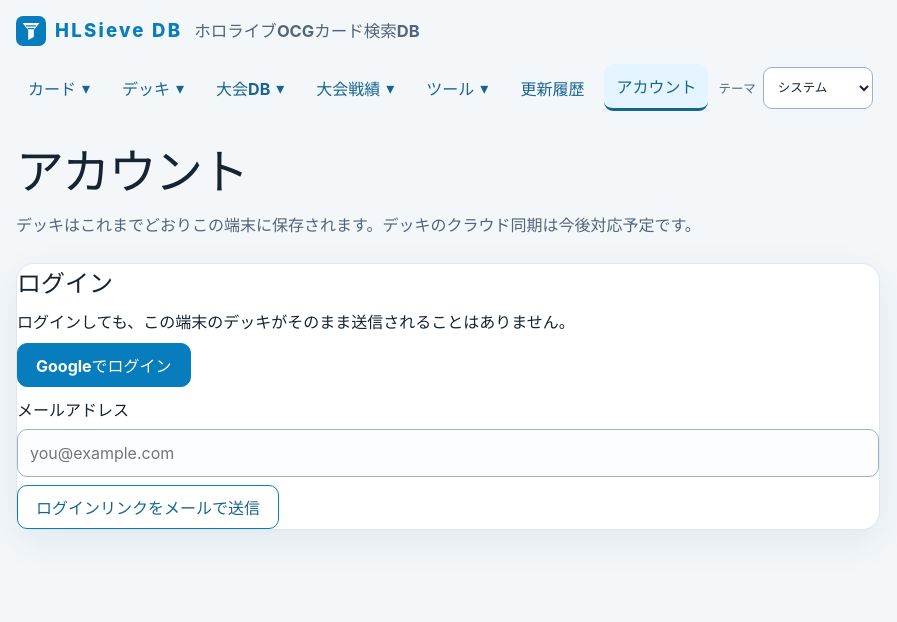
Test: account page while signed out › tells the visitor to wait when the provider rate limits them
This screenshot has width=897, height=622.
Check: the heading "ログイン" is shown, box [17, 269, 113, 298]
Type "player@example.com" into the field labelled "メールアドレス" at (448, 453), box [17, 429, 879, 477]
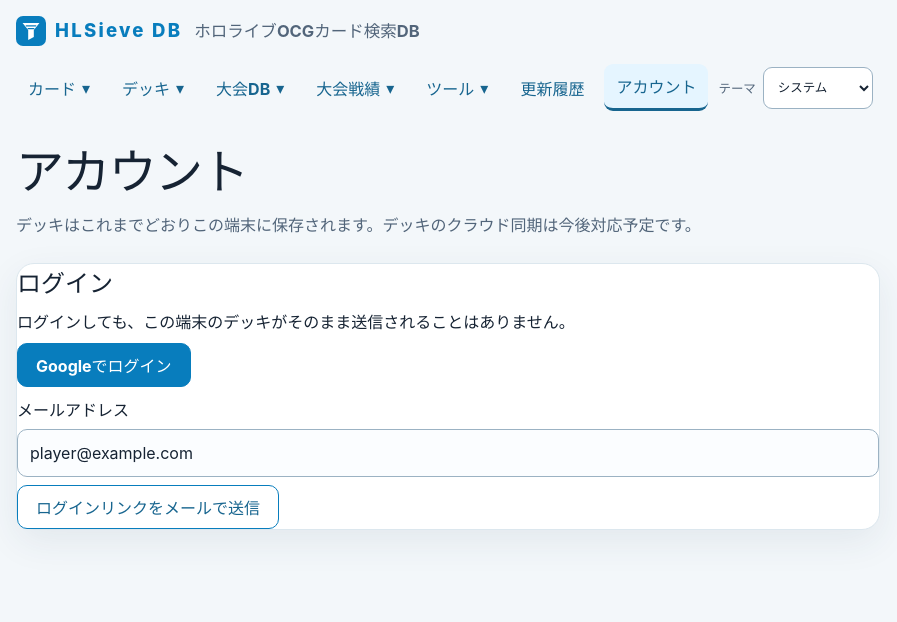
Click the button "ログインリンクをメールで送信" at (148, 507), box [17, 485, 279, 529]
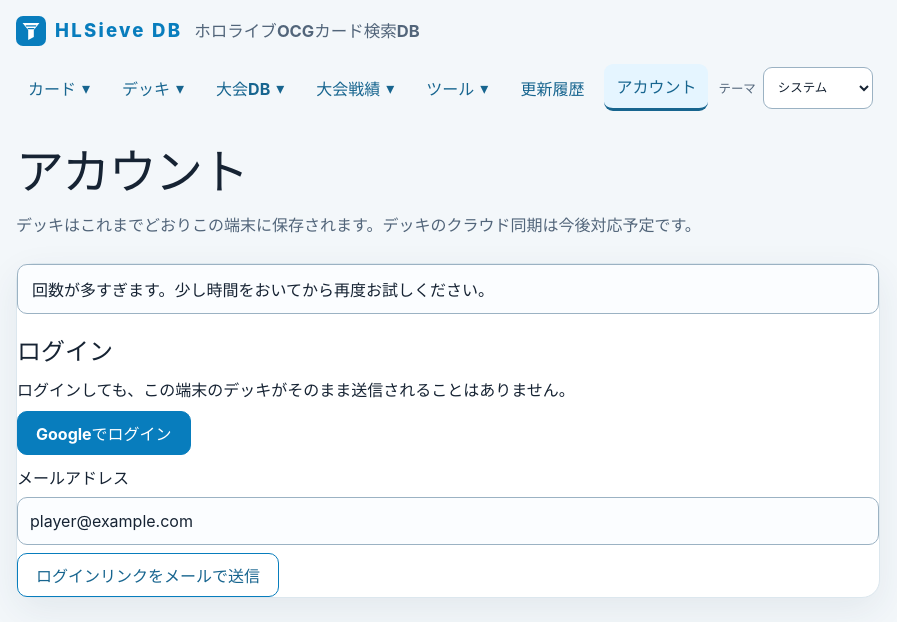
Check: the message shows "少し時間をおいてから再度お試しください", box [32, 280, 494, 300]
